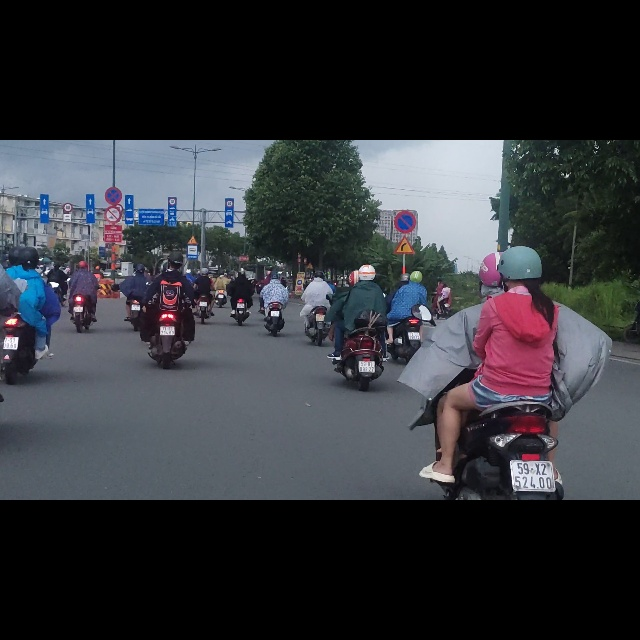bien_cam: (394, 124, 416, 165), (394, 167, 416, 202), (104, 118, 122, 149), (104, 84, 122, 114), (187, 186, 198, 211), (187, 169, 198, 186), (64, 111, 73, 128), (169, 103, 176, 116), (226, 107, 233, 120)
